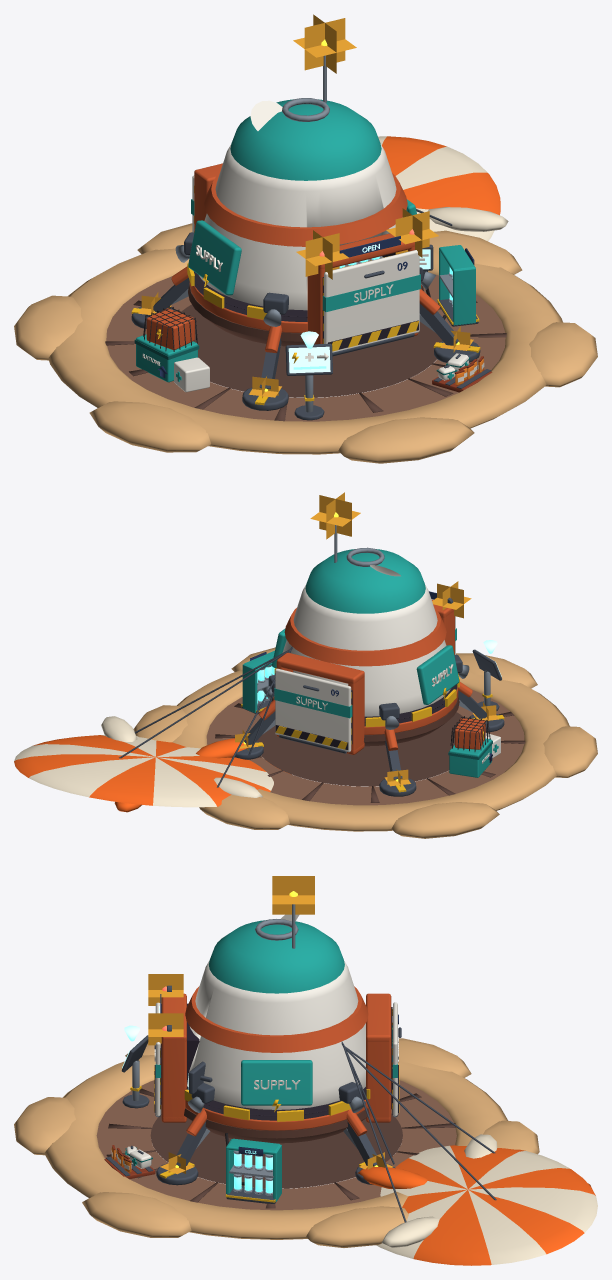
File: dune_station.glb
The picture shows the model from 3 angles, top to bottom: view 1: azimuth 30°, elevation 25°; view 2: azimuth 150°, elevation 25°; view 3: azimuth 270°, elevation 25°; orthographic projection. The views are drawn at different scales.
Visible parts, largest first — view 1: Pod, Hatch, ClosedLamps; view 2: Pod, ClosedLamps; view 3: Pod, ClosedLamps, Hatch.
Boxes of the visible parts, <box> form: Pod: <box>14,14,597,463</box>; Hatch: <box>322,250,420,356</box>; ClosedLamps: <box>296,208,438,279</box>; Pod: <box>14,492,597,838</box>; ClosedLamps: <box>432,581,471,618</box>; Pod: <box>14,876,597,1265</box>; ClosedLamps: <box>148,974,183,1045</box>; Hatch: <box>154,1002,161,1117</box>.
Bounding box in the file's own units: 13.49 × 7.55 × 13.89.
